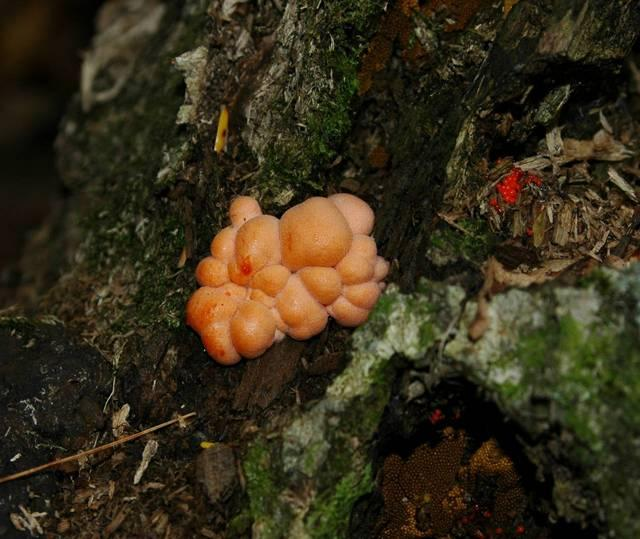Non-edible Mushroom: (185, 191, 389, 365)
